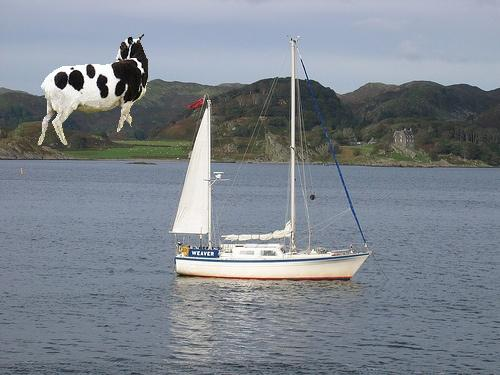tampered: (39, 35, 148, 145)
